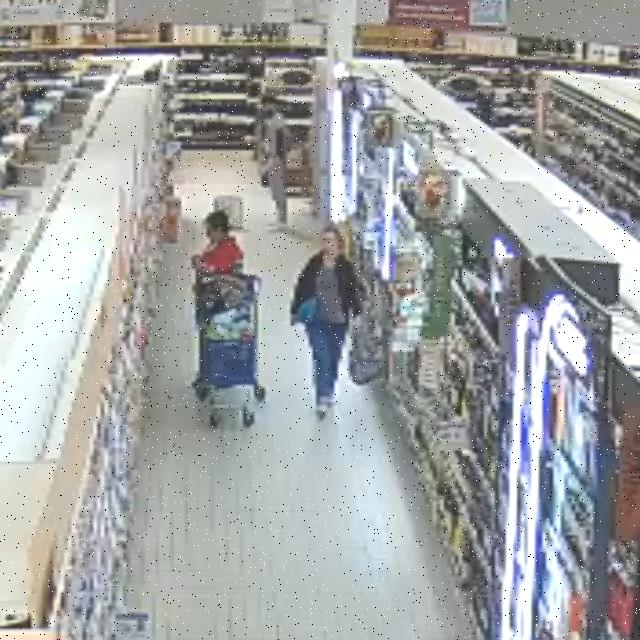bags: (349, 325, 383, 385), (296, 297, 317, 325)
hands: (191, 255, 200, 269), (290, 314, 297, 326)
person: (291, 226, 361, 418), (193, 211, 243, 274), (267, 101, 289, 230)
